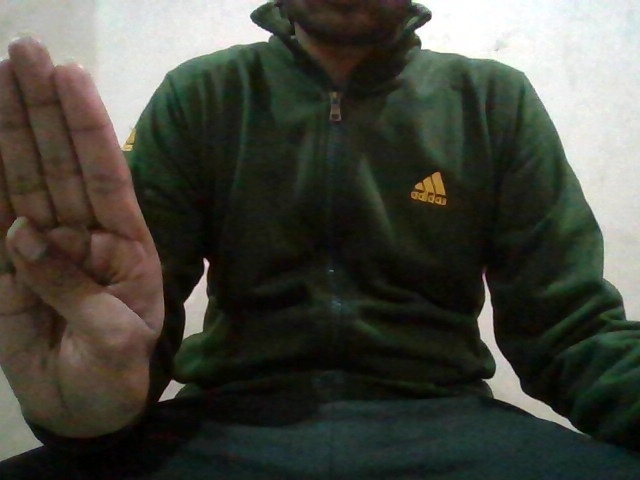B: (1, 27, 162, 439)
